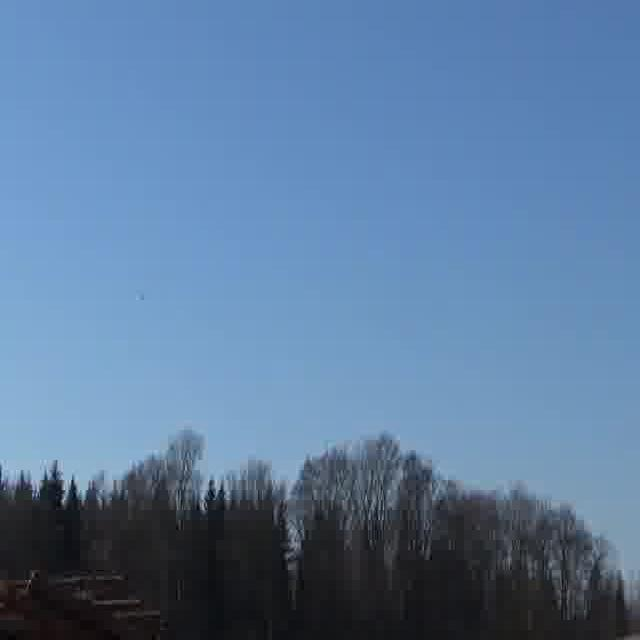bird: (135, 286, 149, 303)
